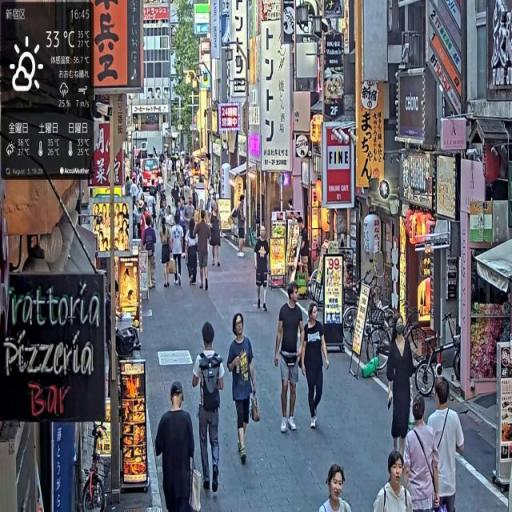person: (192, 320, 226, 502), (155, 379, 198, 512), (426, 378, 468, 512), (228, 312, 261, 469), (275, 281, 307, 435), (403, 396, 443, 512), (300, 298, 332, 433), (387, 319, 416, 460), (372, 450, 415, 512), (318, 464, 353, 512), (254, 224, 271, 314), (195, 211, 213, 292), (171, 214, 187, 289), (144, 216, 159, 293), (209, 203, 223, 270)
